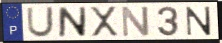3: (156, 5, 180, 37)
N: (120, 5, 151, 39), (57, 6, 88, 39), (185, 5, 213, 36)
U: (26, 6, 55, 39)
X: (88, 6, 121, 38)
